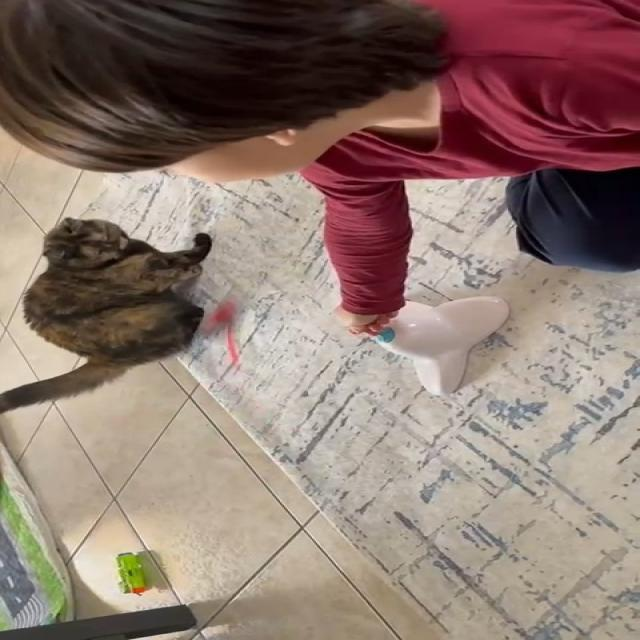authorized: (0, 216, 212, 414)
